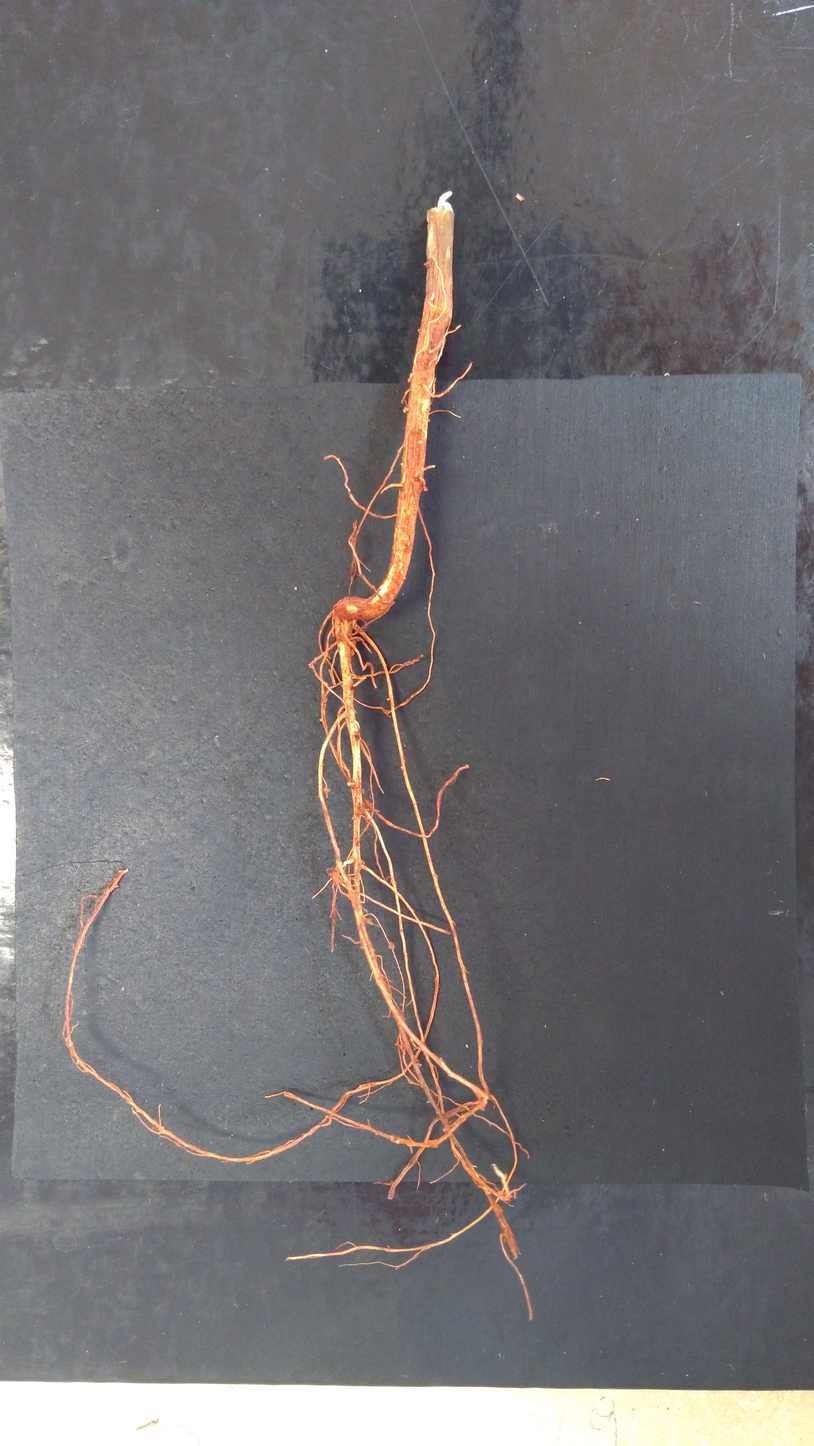nodule: (317, 788, 331, 800), (332, 870, 343, 883), (407, 372, 413, 383), (346, 782, 355, 788), (351, 640, 356, 650), (403, 407, 410, 413), (351, 649, 355, 657)
